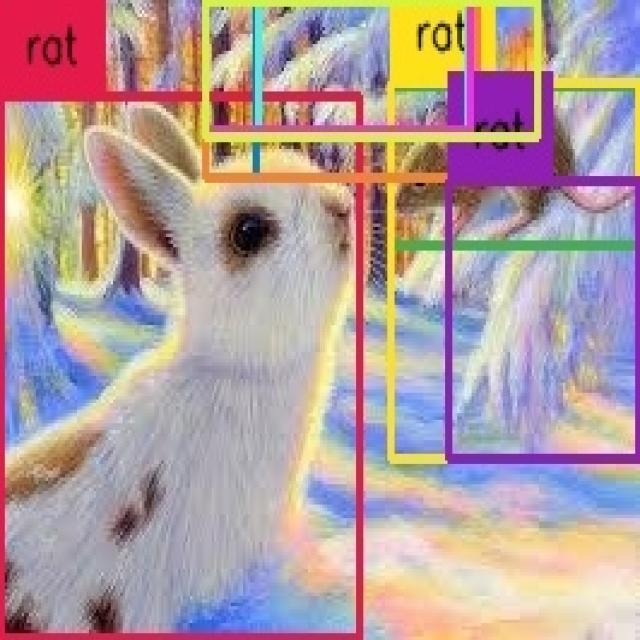rat: (1, 96, 360, 638), (391, 85, 639, 457), (449, 183, 639, 457), (207, 0, 479, 176), (205, 0, 538, 139), (391, 85, 639, 247), (258, 1, 472, 178), (206, 2, 470, 130), (258, 0, 469, 132)
